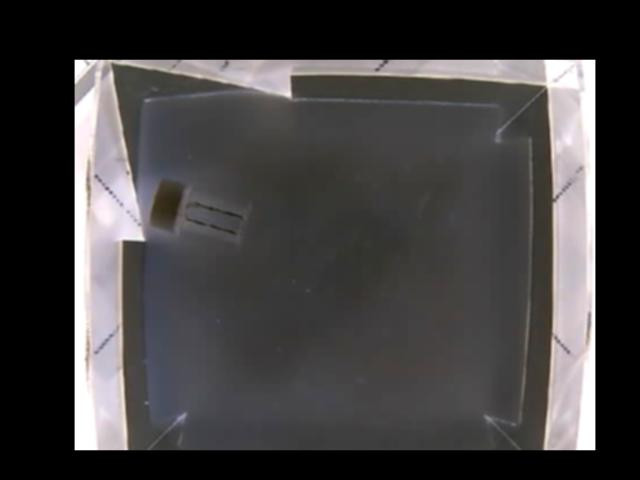Bottle: (144, 179, 249, 250)
